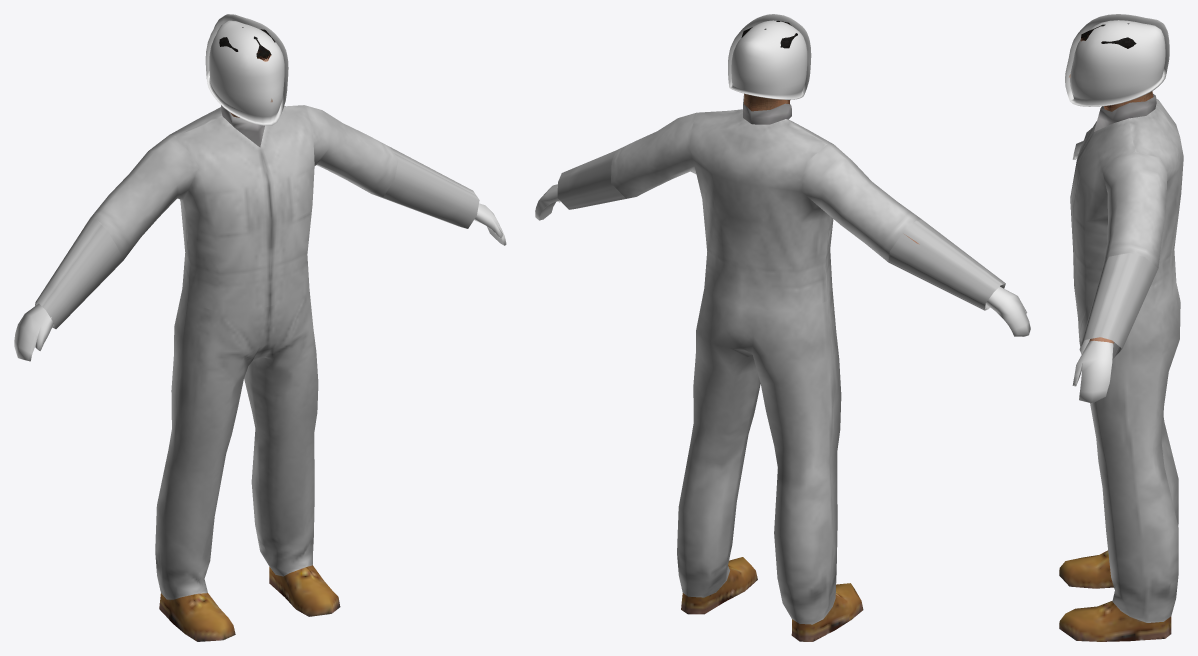
File: Racer.glb
The picture shows the model from 3 angles, left to right: view 1: azimuth 30°, elevation 25°; view 2: azimuth 150°, elevation 25°; view 3: azimuth 270°, elevation 25°; orthographic projection.
Visible parts, largest first — view 1: NPC-male-job.002, Cube; view 2: NPC-male-job.002, Cube; view 3: NPC-male-job.002, Cube.
Part boxes in pixels (x1,y1,x2,y2): NPC-male-job.002: [14, 27, 506, 641]; Cube: [205, 14, 288, 125]; NPC-male-job.002: [535, 21, 1030, 641]; Cube: [728, 14, 811, 99]; NPC-male-job.002: [1059, 23, 1183, 641]; Cube: [1065, 14, 1169, 106].
Size of the model in its own units: 1.61 by 1.86 by 0.3556.
Materials: 5 (3 with a texture image).
